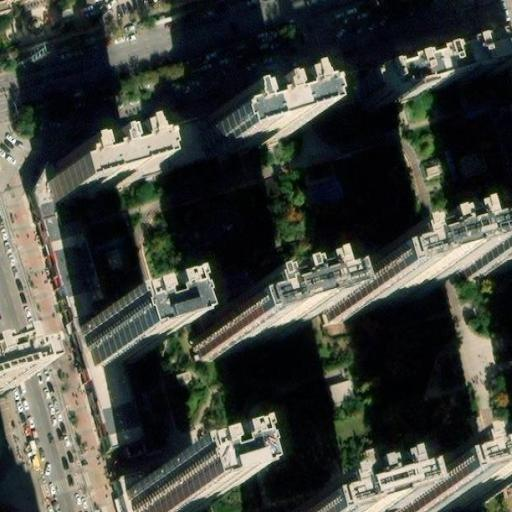building: (35, 150, 136, 439), (370, 9, 512, 79), (326, 251, 444, 321), (127, 99, 231, 165), (47, 130, 150, 195), (187, 300, 290, 364), (213, 76, 310, 143), (381, 462, 499, 512), (0, 393, 48, 512), (291, 57, 374, 115), (80, 304, 154, 363), (129, 467, 203, 512), (463, 222, 512, 277), (313, 368, 355, 399), (120, 471, 143, 512), (239, 90, 260, 109), (76, 142, 94, 163), (266, 83, 282, 101), (103, 135, 118, 153)
